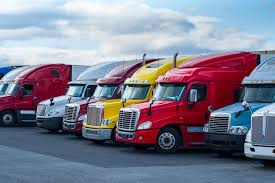truck: (114, 49, 250, 156), (206, 55, 275, 147), (1, 63, 73, 122)
